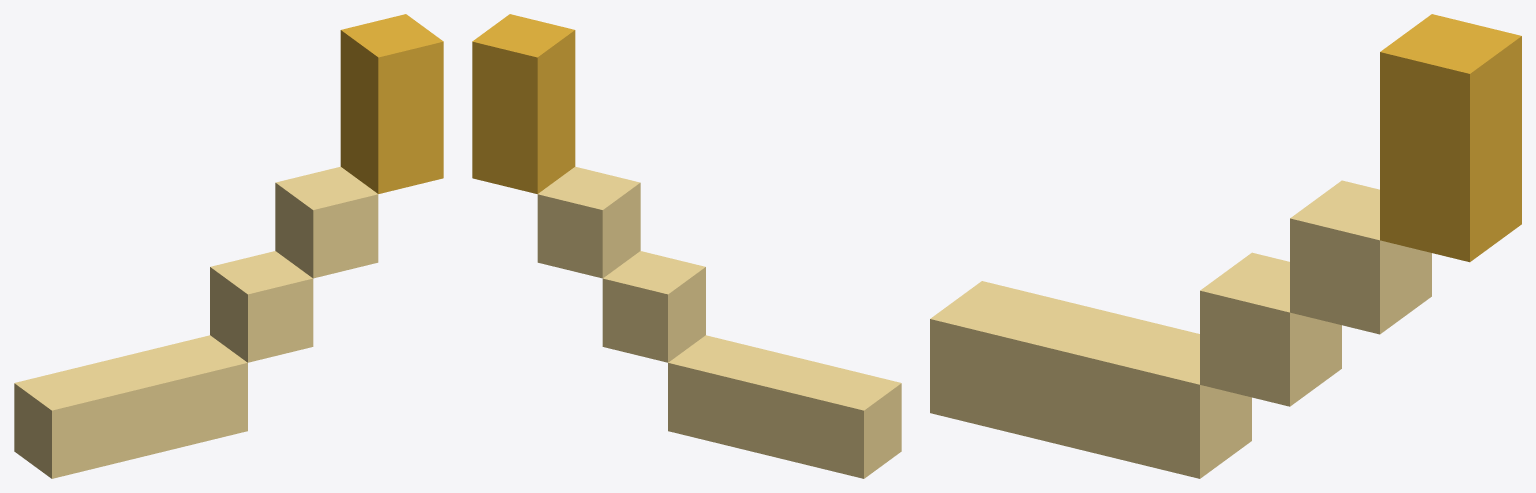
The model's file is thymea-19-left_hand_attack.obj.
The picture shows the model from 3 angles, left to right: view 1: azimuth 30°, elevation 25°; view 2: azimuth 150°, elevation 25°; view 3: azimuth 330°, elevation 25°; orthographic projection. The views are drawn at different scales.
Parts seen in each view (by area): view 1: left_hand_attack; view 2: left_hand_attack; view 3: left_hand_attack.
Boxes of the visible parts, box(x1,y1,x2,y2) form: left_hand_attack: box(14, 14, 443, 478); left_hand_attack: box(472, 14, 901, 478); left_hand_attack: box(930, 14, 1521, 478).
Bounding box in the file's own units: 0.6 × 0.5 × 0.1.
Materials: 1 (1 with a texture image).
